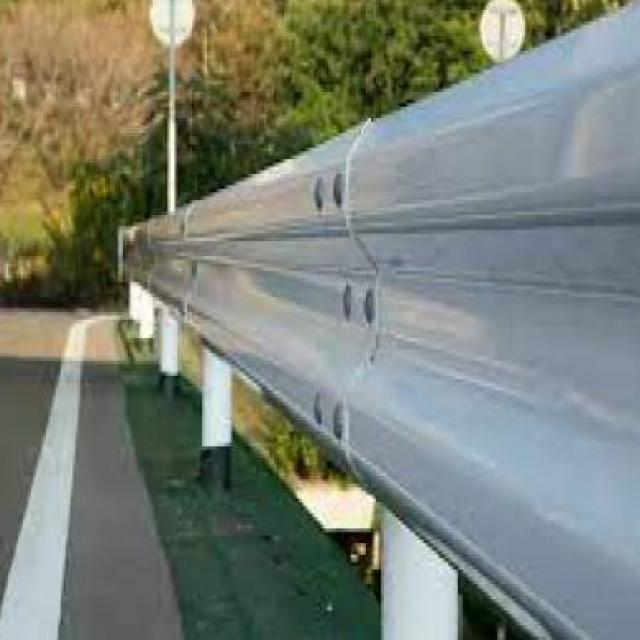Guard rail: (118, 0, 640, 640)
